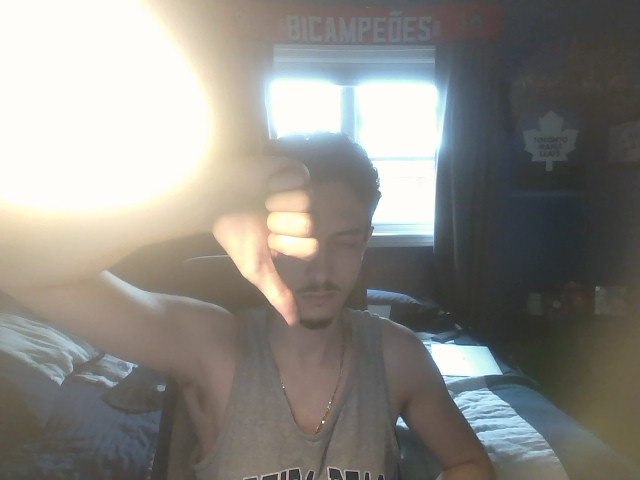ThumbsDown: (216, 155, 321, 326)
